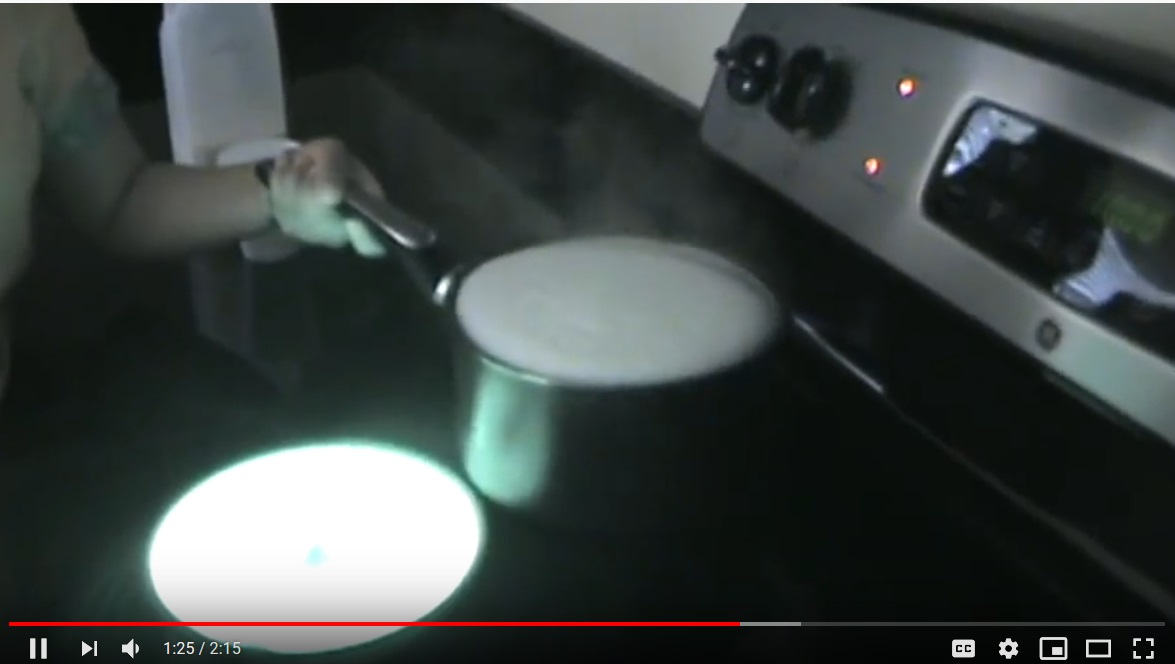Steaming: (422, 197, 787, 529)
